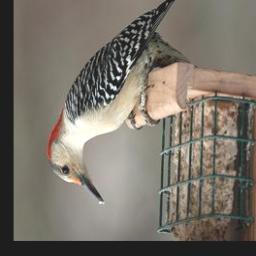Woodpecker: (46, 0, 191, 206)
